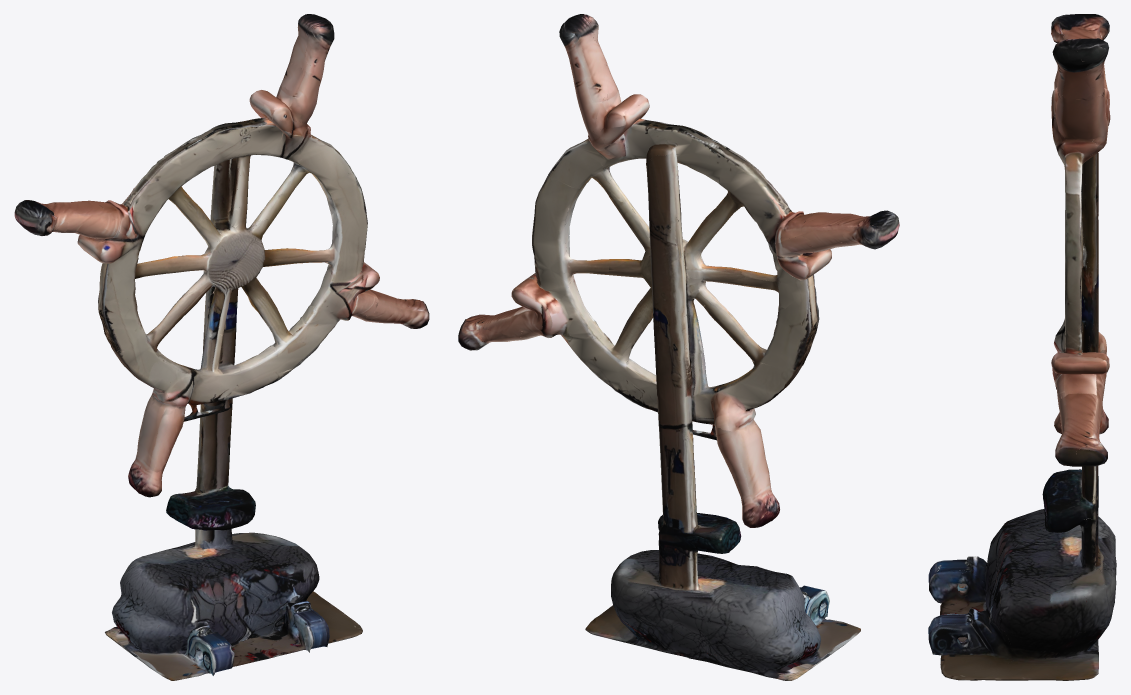
The picture shows the model from 3 angles, left to right: view 1: azimuth 30°, elevation 25°; view 2: azimuth 150°, elevation 25°; view 3: azimuth 270°, elevation 25°; orthographic projection. The views are drawn at different scales.
Parts seen in each view (by area): view 1: geometry_0; view 2: geometry_0; view 3: geometry_0.
Boxes of the visible parts, x1,y1,x2,y2 form: geometry_0: [14, 14, 429, 680]; geometry_0: [458, 14, 899, 680]; geometry_0: [928, 14, 1116, 680].
Bounding box in the file's own units: 1.41 × 1.9 × 0.5002.
1 material, 1 textured.
